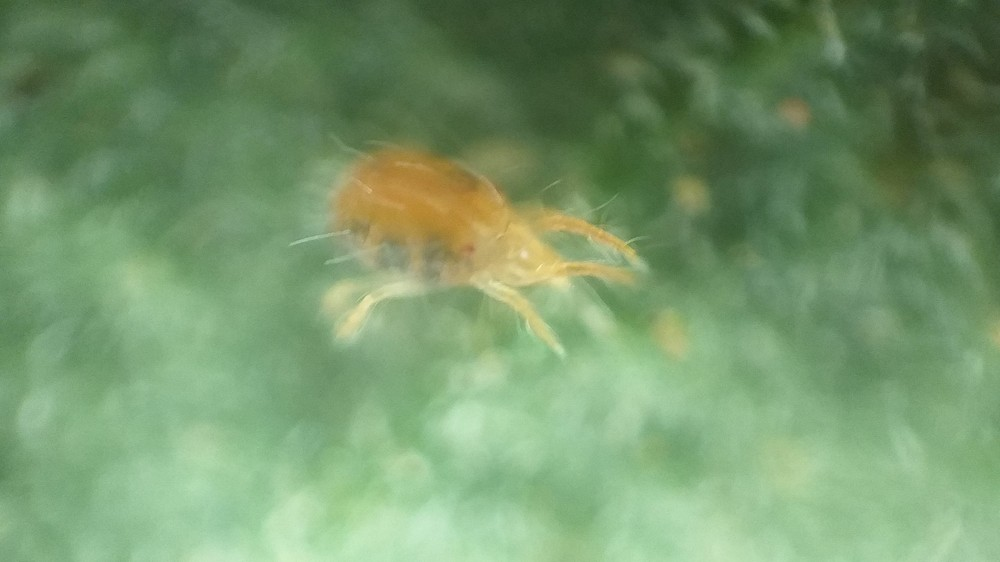Aracnido Rojo: (278, 119, 667, 375)
